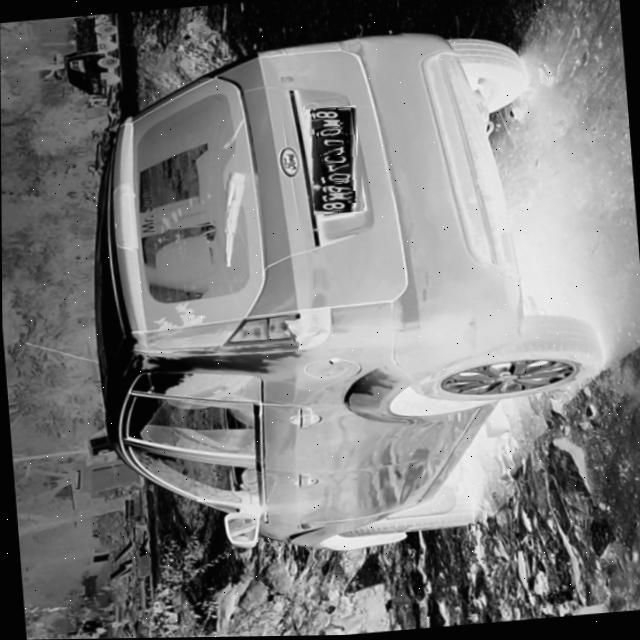0: (325, 170, 351, 183), (317, 126, 341, 137)
4: (322, 161, 350, 173)
5: (317, 135, 343, 146)
8: (314, 108, 339, 120), (316, 117, 340, 128)
C: (322, 153, 346, 163)
IND: (323, 199, 348, 213)
Indian_registered: (312, 109, 353, 213)
K: (320, 143, 345, 156)
M: (326, 190, 355, 203)
P: (326, 183, 352, 193)
